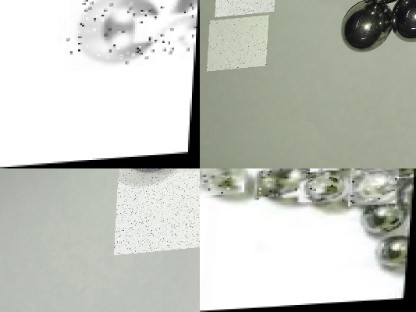ironball: (66, 0, 160, 73), (339, 3, 392, 51), (349, 169, 400, 208), (300, 168, 353, 205), (363, 202, 412, 241), (256, 168, 309, 200), (374, 237, 410, 270), (199, 168, 244, 194), (390, 0, 414, 46), (395, 178, 414, 211)
